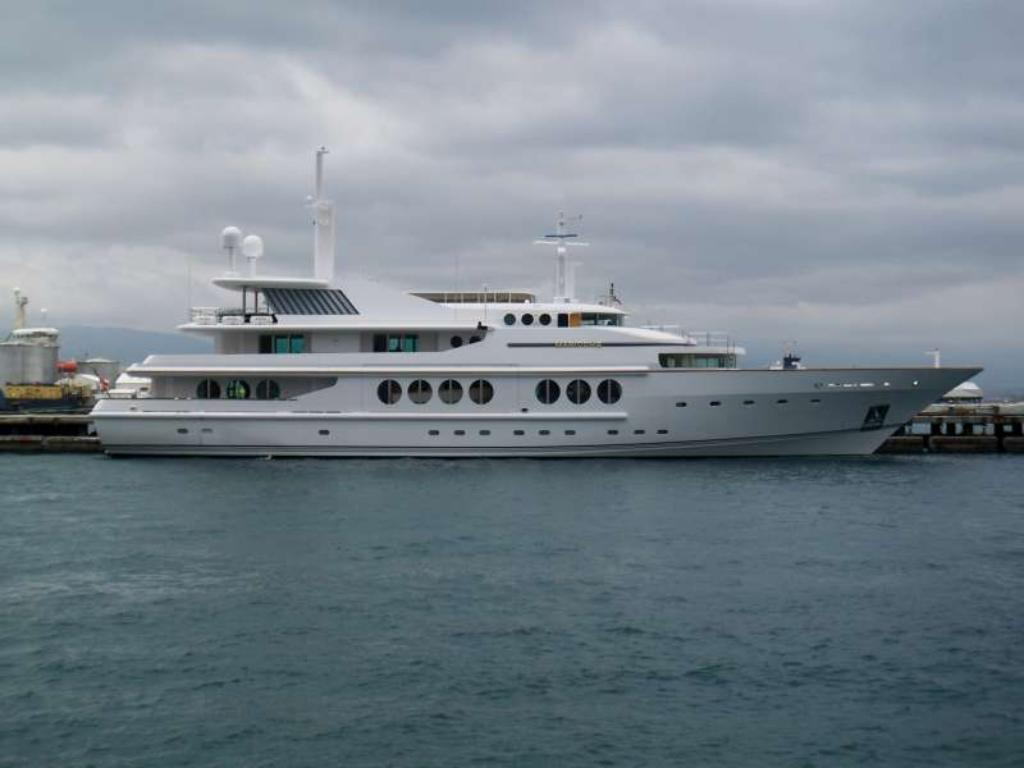PassengerShip: (82, 142, 986, 456)
